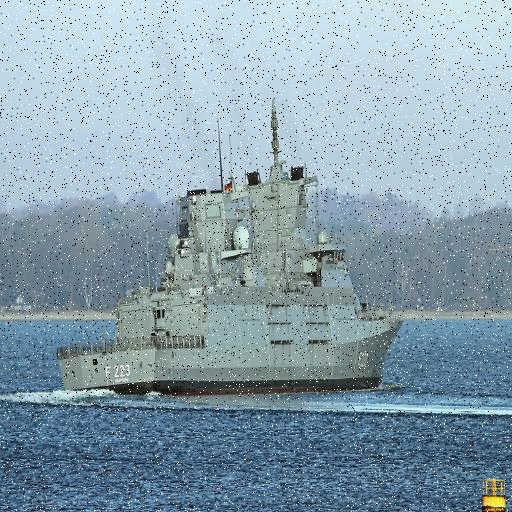Fragata: (58, 90, 412, 400)
